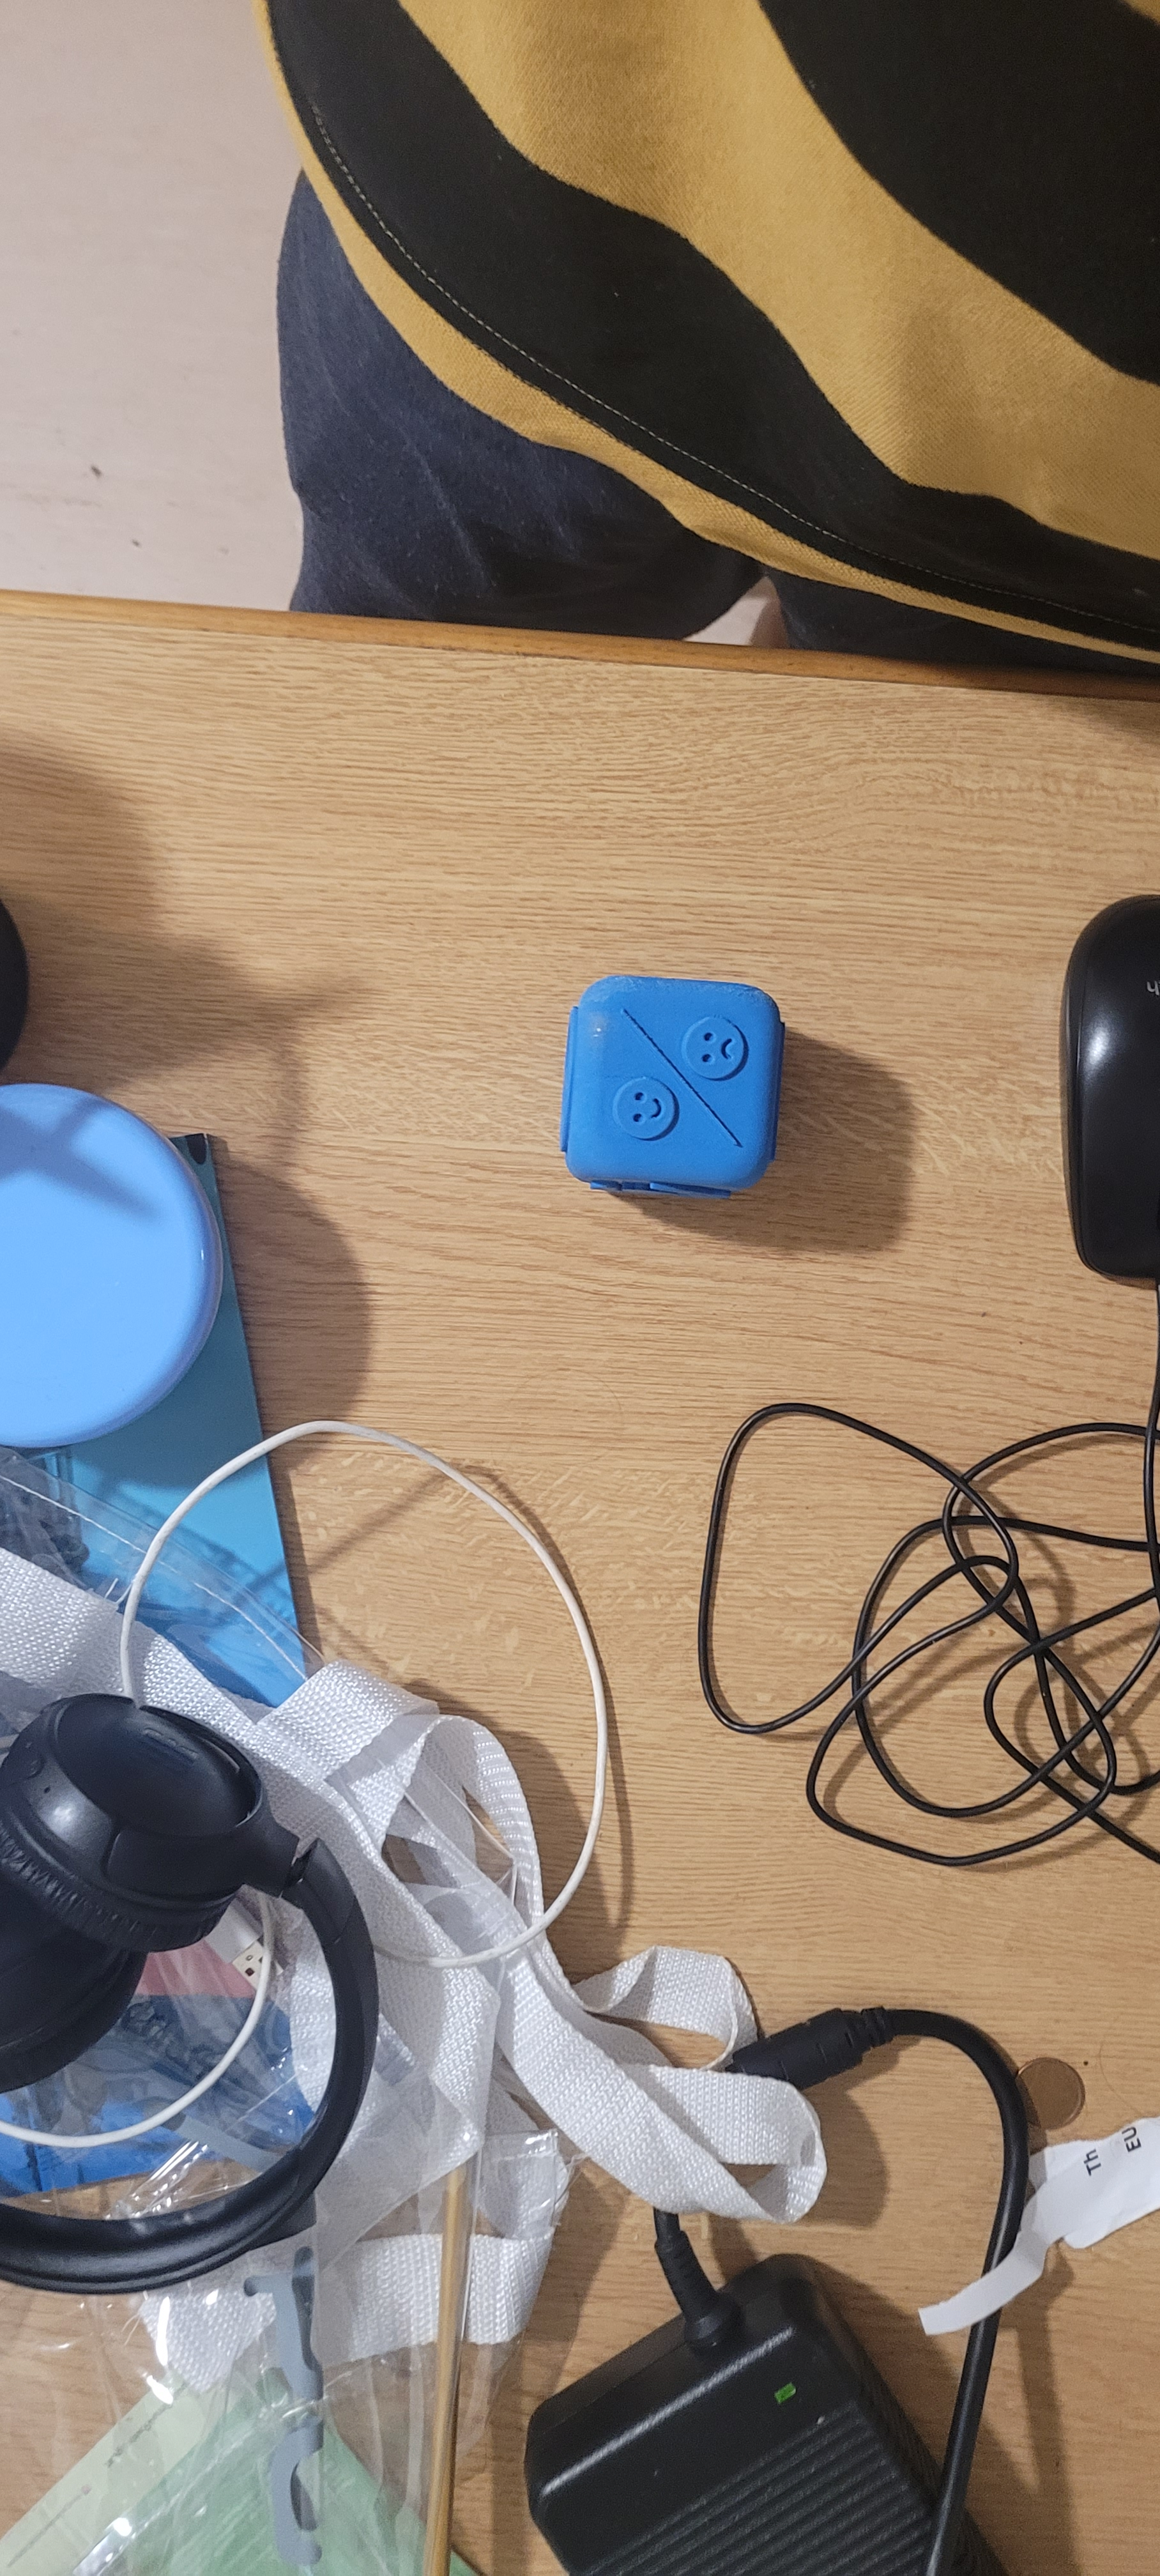Like/Dislike: (555, 954, 830, 1211)
